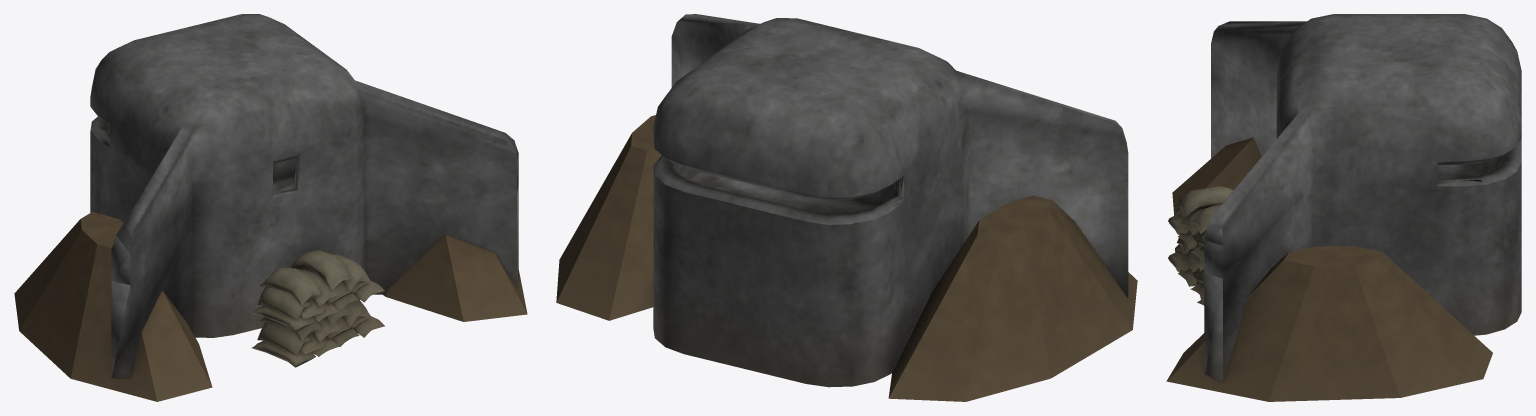
File: pbox.glb
The picture shows the model from 3 angles, left to right: view 1: azimuth 30°, elevation 25°; view 2: azimuth 150°, elevation 25°; view 3: azimuth 270°, elevation 25°; orthographic projection. The views are drawn at different scales.
Visible parts, largest first — view 1: hull; view 2: hull; view 3: hull.
Boxes of the visible parts, x1,y1,x2,y2 form: hull: [14, 14, 527, 401]; hull: [556, 14, 1137, 401]; hull: [1166, 14, 1521, 401].
Size of the model in its own units: 6.66 by 3.2 by 4.34.
Materials: 1 (1 with a texture image).
